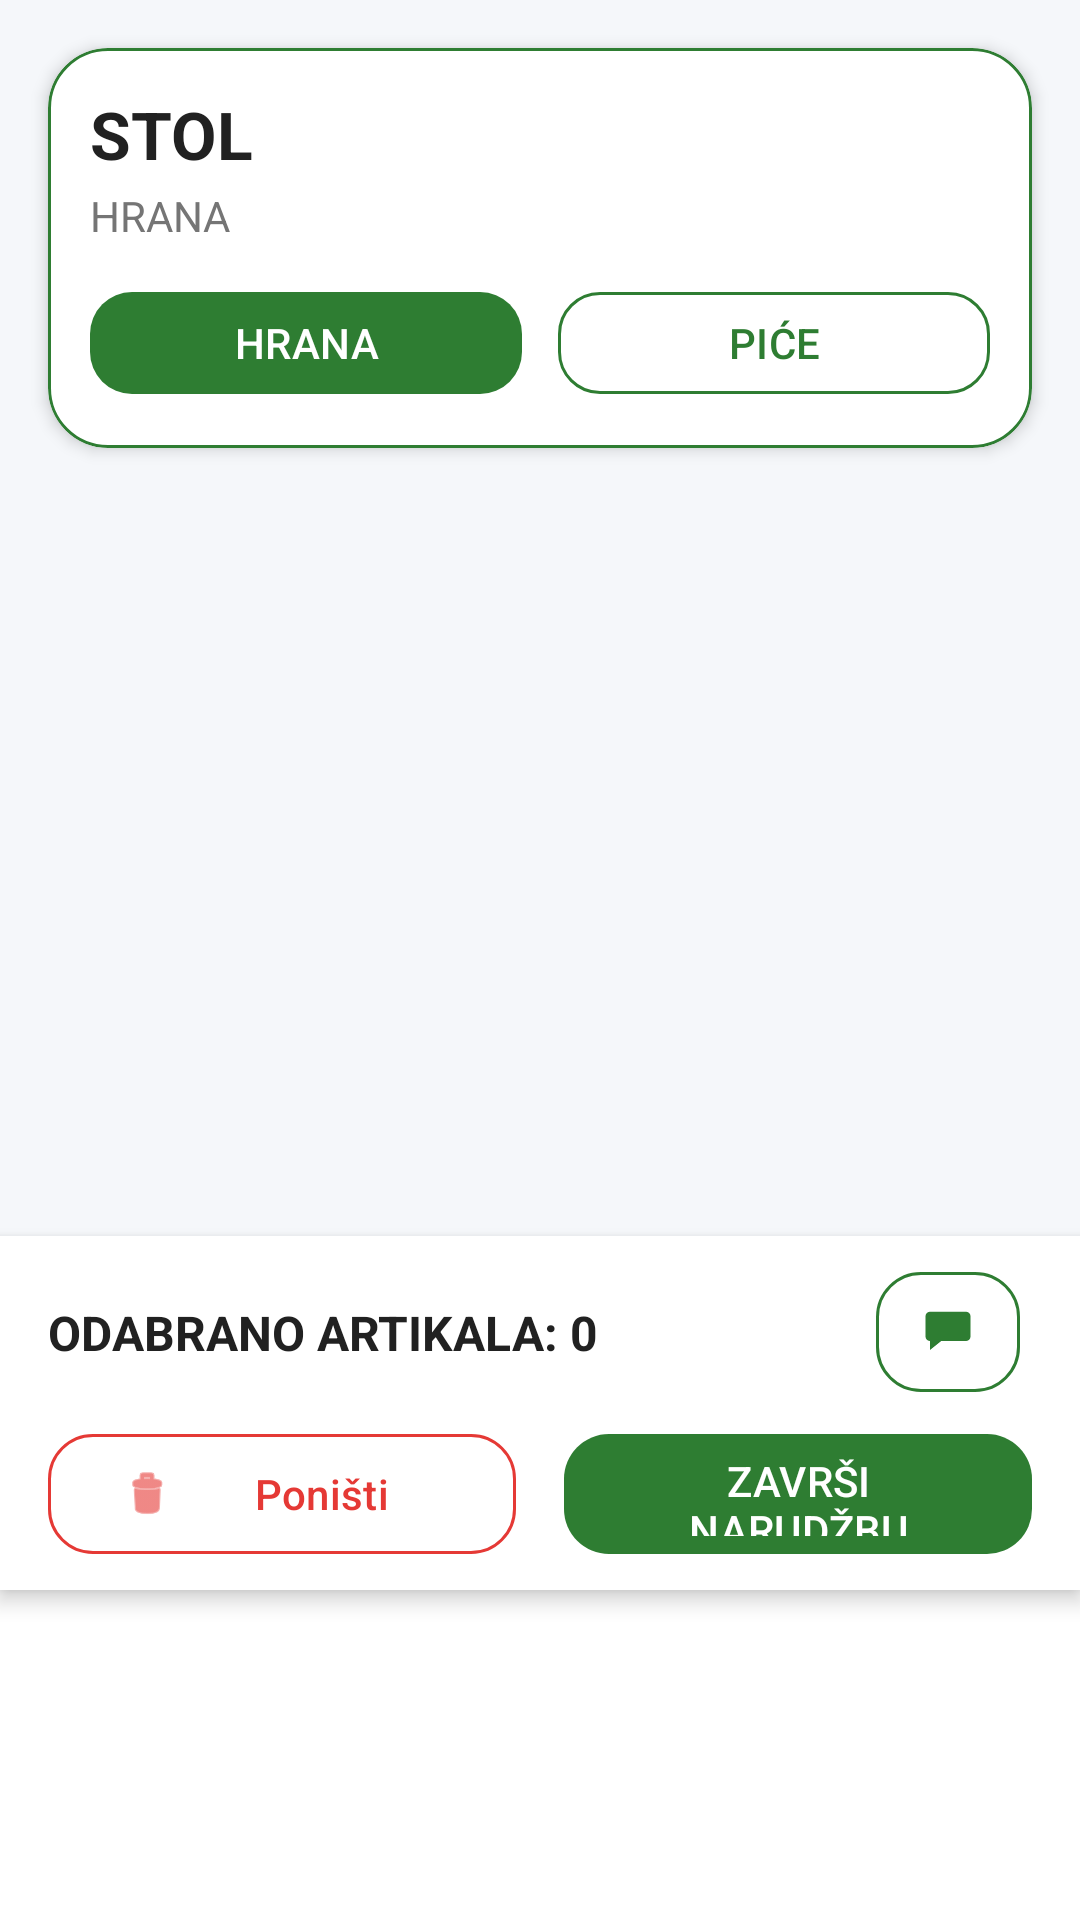

Named icons in this screenshot (1080px x 1920px) and their bounding boxes, (x1, y1, x2, y2):
AI Chat: (876, 1272, 1020, 1392)
